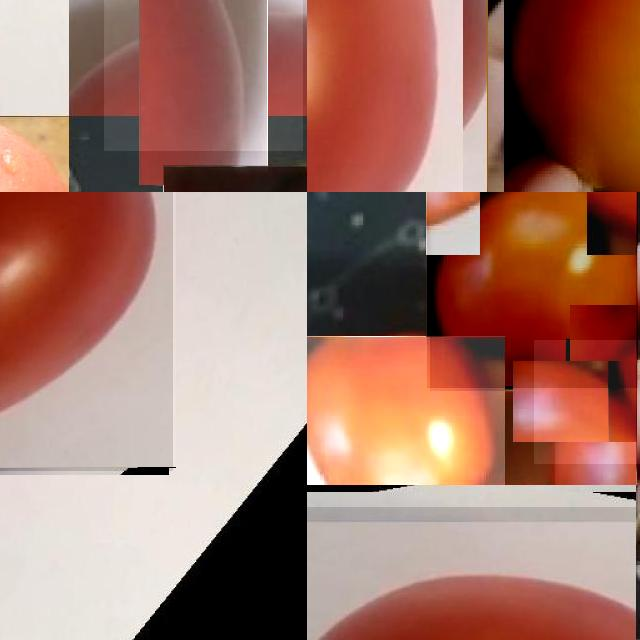Fresh Tomato: (0, 192, 173, 471), (307, 506, 636, 640), (427, 192, 638, 388), (307, 0, 487, 192), (103, 0, 303, 150), (307, 336, 505, 485), (487, 0, 640, 192), (533, 340, 640, 463)
